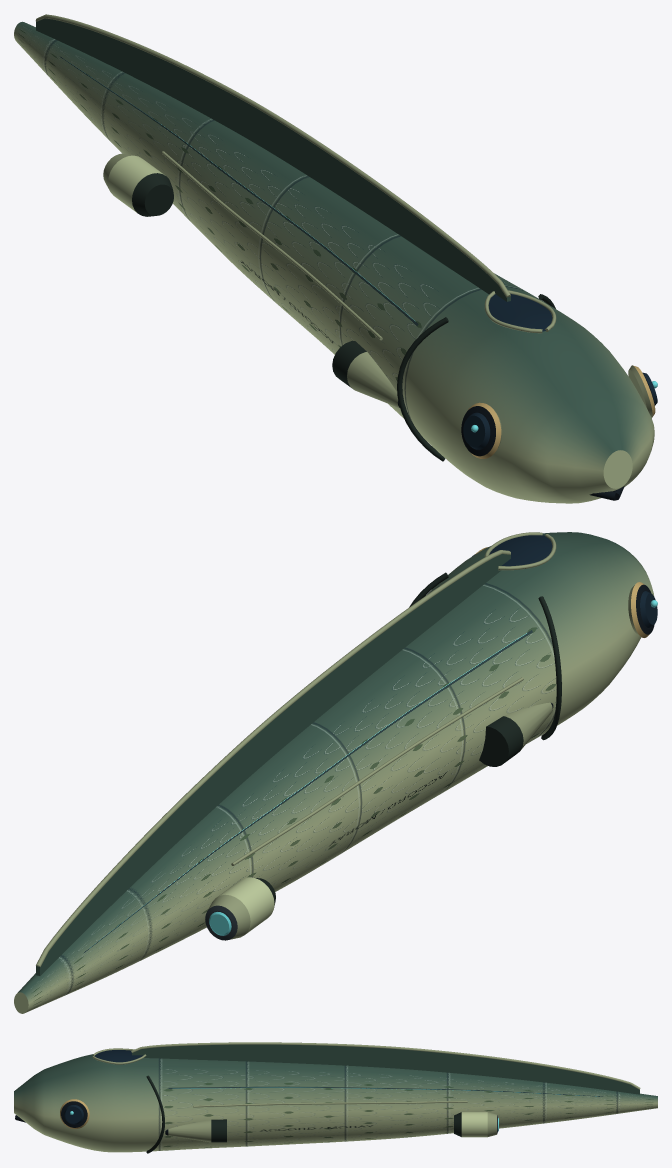
Rendered from moray.glb.
3 renders of one model, top to bottom at view 1: azimuth 30°, elevation 25°; view 2: azimuth 150°, elevation 25°; view 3: azimuth 270°, elevation 25°, orthographic. The views are drawn at different scales.
Parts seen in each view (by area): view 1: moray_hull; view 2: moray_hull; view 3: moray_hull.
Boxes of the visible parts, x1,y1,x2,y2 form: moray_hull: [14, 14, 657, 503]; moray_hull: [14, 532, 657, 1013]; moray_hull: [14, 1042, 657, 1153].
Bounding box in the file's own units: 7.55 × 7.56 × 42.
Materials: 1 (1 with a texture image).
